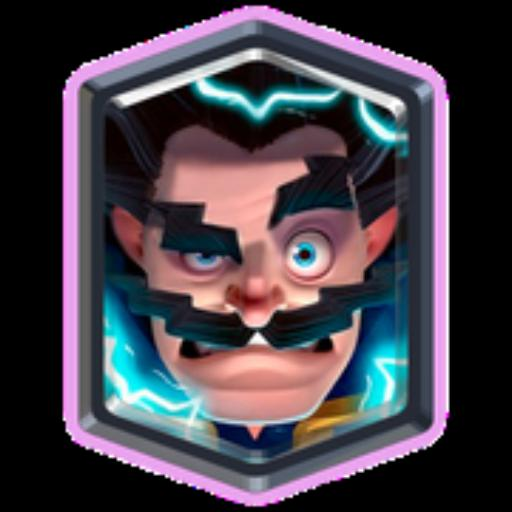electro-wizard: (94, 60, 408, 460)
